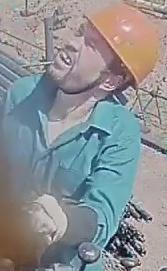gloves: (6, 194, 79, 267)
helmet: (84, 2, 160, 88)
vest: (0, 73, 142, 270)
